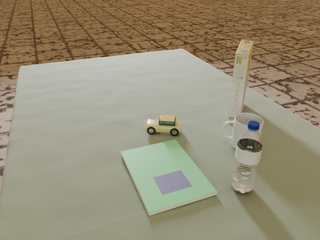book: (121, 140, 217, 215)
bottle: (231, 120, 263, 194)
box: (228, 40, 253, 120)
cup: (222, 113, 263, 149)
toy_car: (145, 115, 181, 136)
